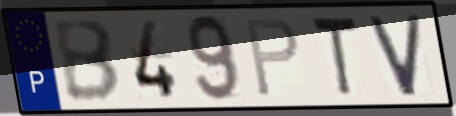4: (131, 18, 179, 101)
9: (187, 11, 244, 106)
B: (49, 17, 124, 104)
P: (243, 16, 302, 100)
T: (308, 14, 361, 100)
V: (365, 11, 424, 99)
